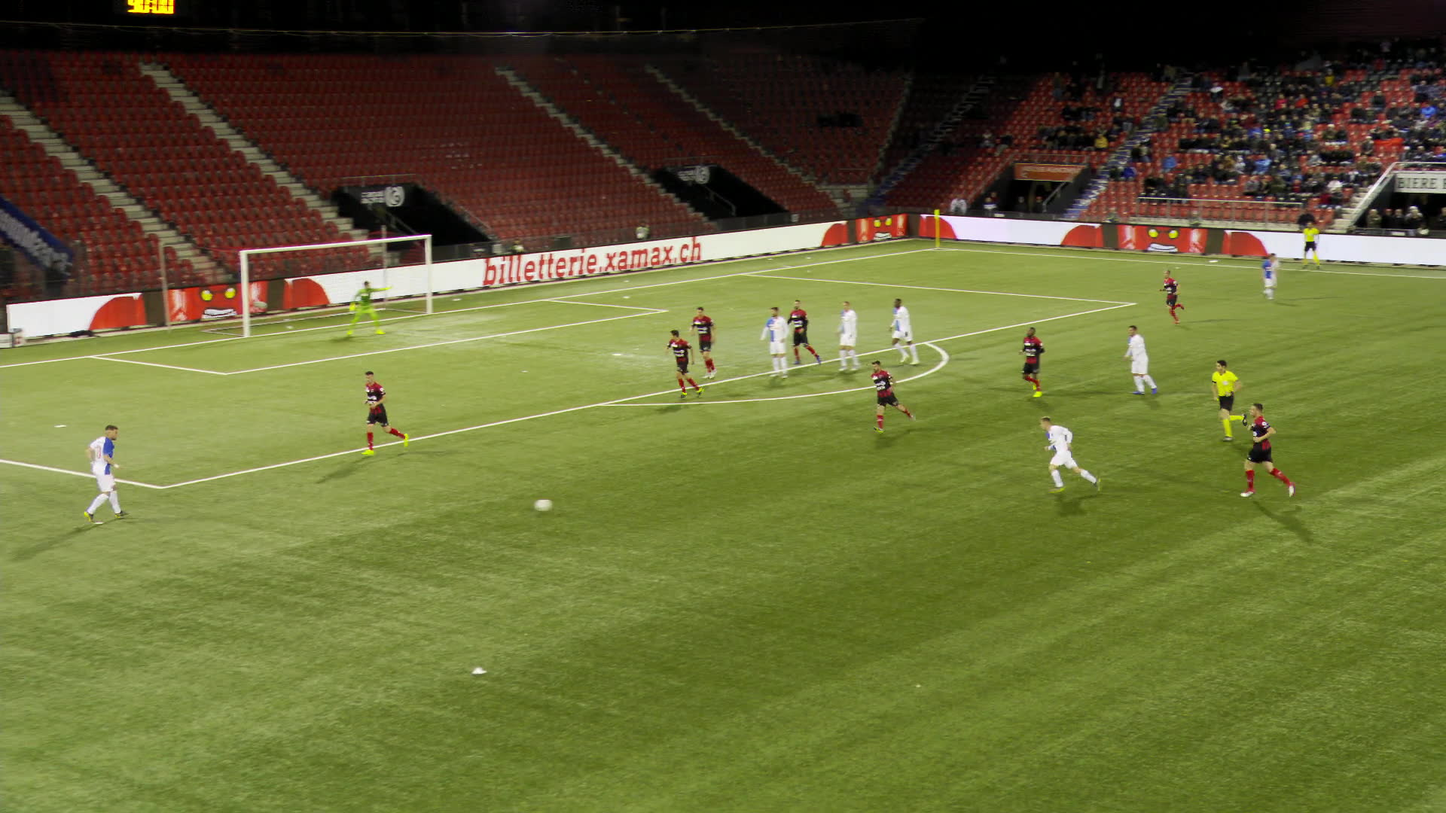ball: (535, 499, 551, 510)
player: (1243, 406, 1295, 500), (1042, 418, 1102, 495), (358, 373, 400, 455), (90, 429, 124, 524), (660, 331, 704, 399), (869, 361, 908, 432), (685, 308, 721, 379), (339, 281, 384, 337), (1119, 325, 1152, 396), (883, 299, 915, 366), (1017, 325, 1046, 397), (756, 307, 784, 379), (784, 299, 814, 366), (828, 302, 856, 372), (1160, 267, 1188, 323), (1255, 253, 1274, 302)
referee: (1209, 361, 1244, 440), (1297, 222, 1319, 269)
